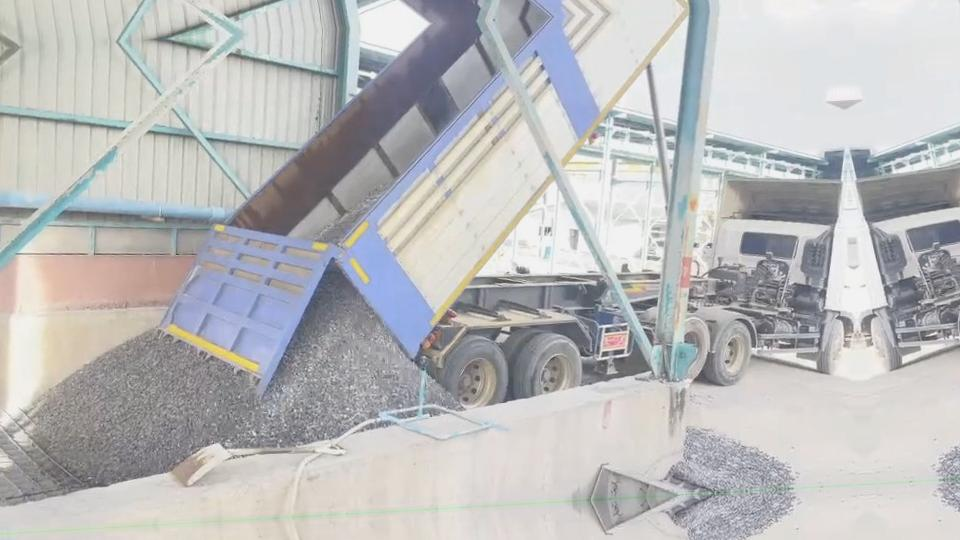gravel: (29, 265, 420, 485), (669, 427, 796, 492), (428, 378, 458, 407)
